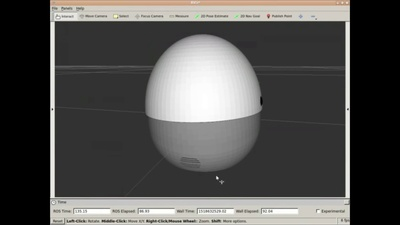mira_robot: (144, 33, 263, 172)
